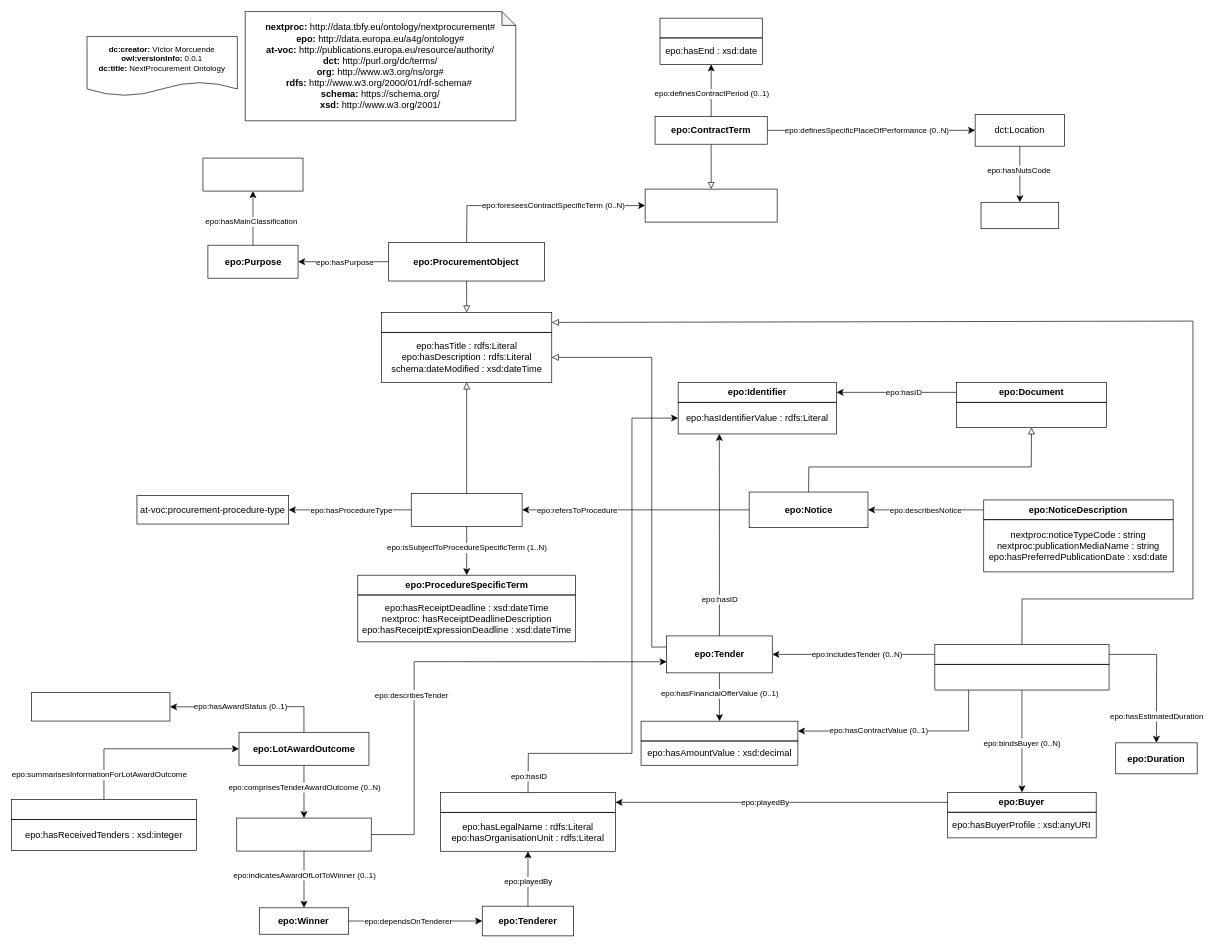
Image size: 1215x948. Some labels were removed from this diagram. Each missing label, with the centre of its shape:
"at-voc:cpysuppl" belongs at (x=252, y=174).
"at-voc:nuts" belongs at (x=1019, y=215).
"at-voc:winner-selection-status" belongs at (x=100, y=706).
"epo:Contract" belongs at (x=1021, y=654).
"epo:ContractSpecificTerm" belongs at (x=710, y=205).
"epo:hasAccessURL : xsd:anyURI" belongs at (x=1031, y=414).
"epo:hasEntryIntoForceDate : xsd:date" belongs at (x=1021, y=677).
"epo:MonetaryValue" belongs at (x=719, y=731).
"epo:Period" belongs at (x=710, y=27).
"epo:Procedure" belongs at (x=466, y=509).
"epo:ProcurementElement" belongs at (x=466, y=322).
"epo:SubmissionStatisticalInformation" belongs at (x=103, y=809).
"epo:TenderAwardOutcome" belongs at (x=303, y=834).
"org:Organization" belongs at (x=527, y=802).
